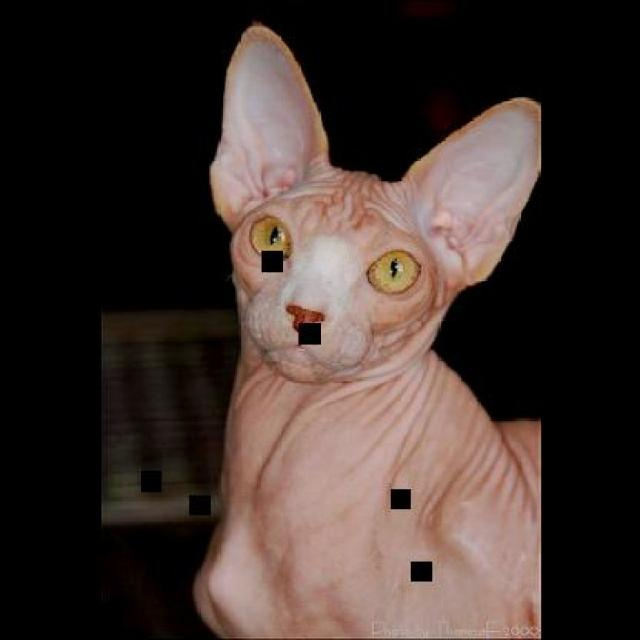unauthorized: (190, 19, 544, 638)
